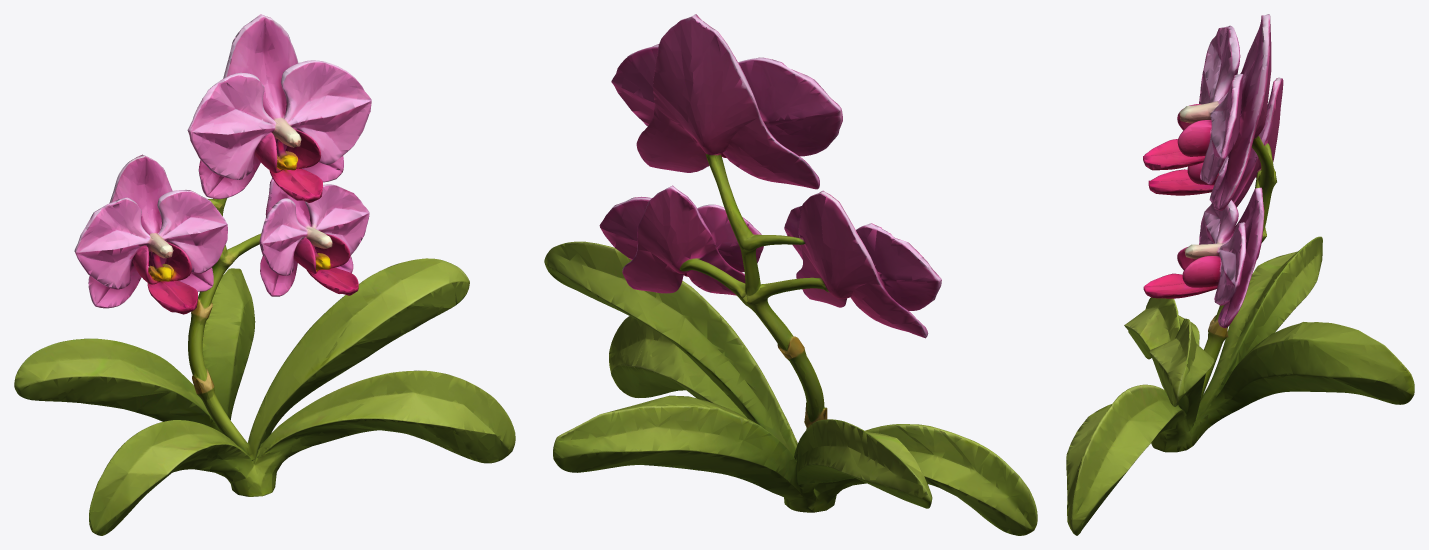
The model's file is orchid.glb.
3 views of the same model, side by side, from view 1: azimuth 30°, elevation 25°; view 2: azimuth 150°, elevation 25°; view 3: azimuth 270°, elevation 25° (orthographic). The views are drawn at different scales.
Parts seen in each view (by area): view 1: tripo_node_6e36afcc; view 2: tripo_node_6e36afcc; view 3: tripo_node_6e36afcc.
Boxes of the visible parts, box(x1,y1,x2,y2) form: tripo_node_6e36afcc: box(14, 14, 515, 535); tripo_node_6e36afcc: box(544, 14, 1037, 535); tripo_node_6e36afcc: box(1066, 14, 1414, 535).
Bounding box in the file's own units: 1.55 × 1.6 × 1.11.
Materials: 1 (1 with a texture image).
